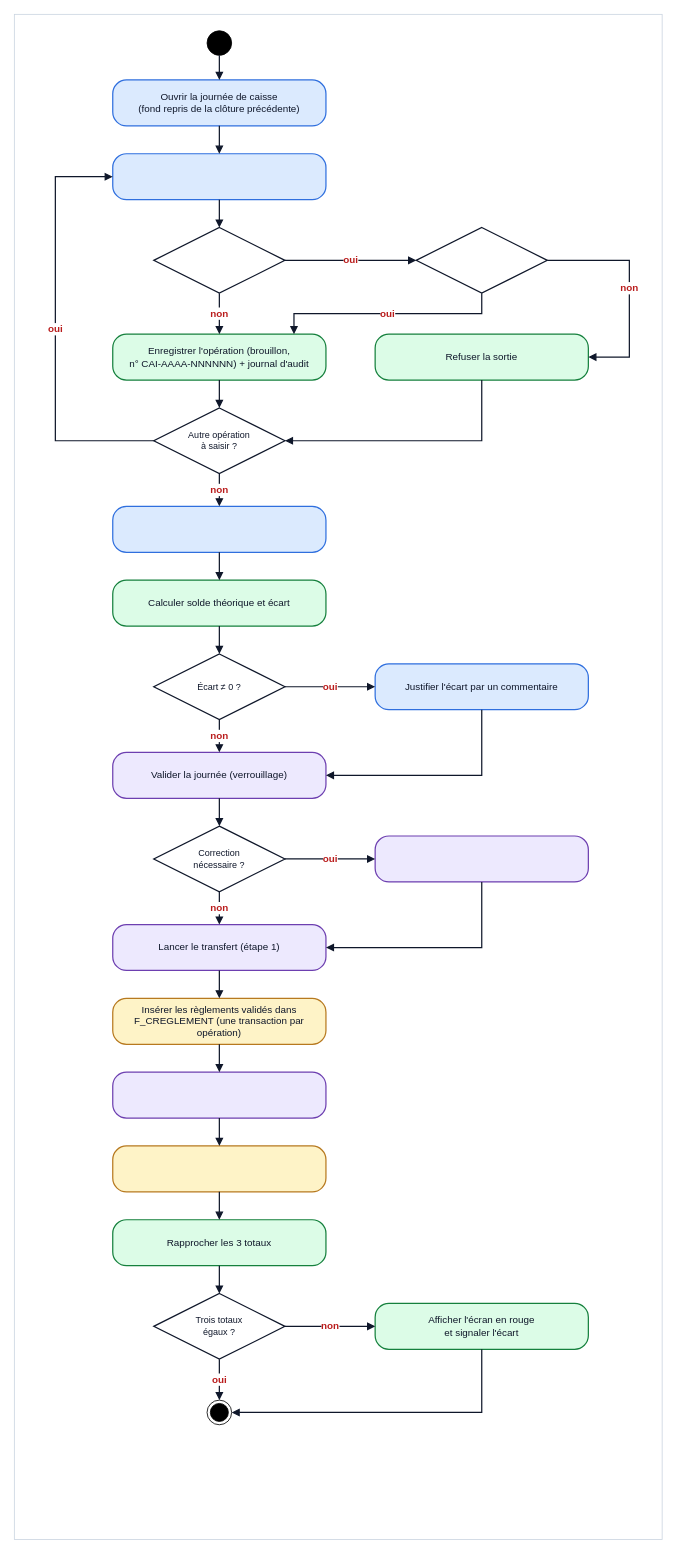
This 677x1554 diagram has some shape labels left out. The shapes that lost their labels are listed below. From the top down, each one's centre as x and y in pixels, then its label:
(x=219, y=176): Saisir un règlement client ou un mouvement de caisse
(x=219, y=260): Sortie ?
(x=481, y=260): Solde théorique reste ≥ 0 ?
(x=219, y=529): Compter billets et pièces FCFA
(x=481, y=858): Annuler ou corriger par une opération datée du jour
(x=219, y=1094): Lancer la comptabilisation (étape 2)
(x=219, y=1168): Écrire les pièces équilibrées dans F_ECRITUREC
